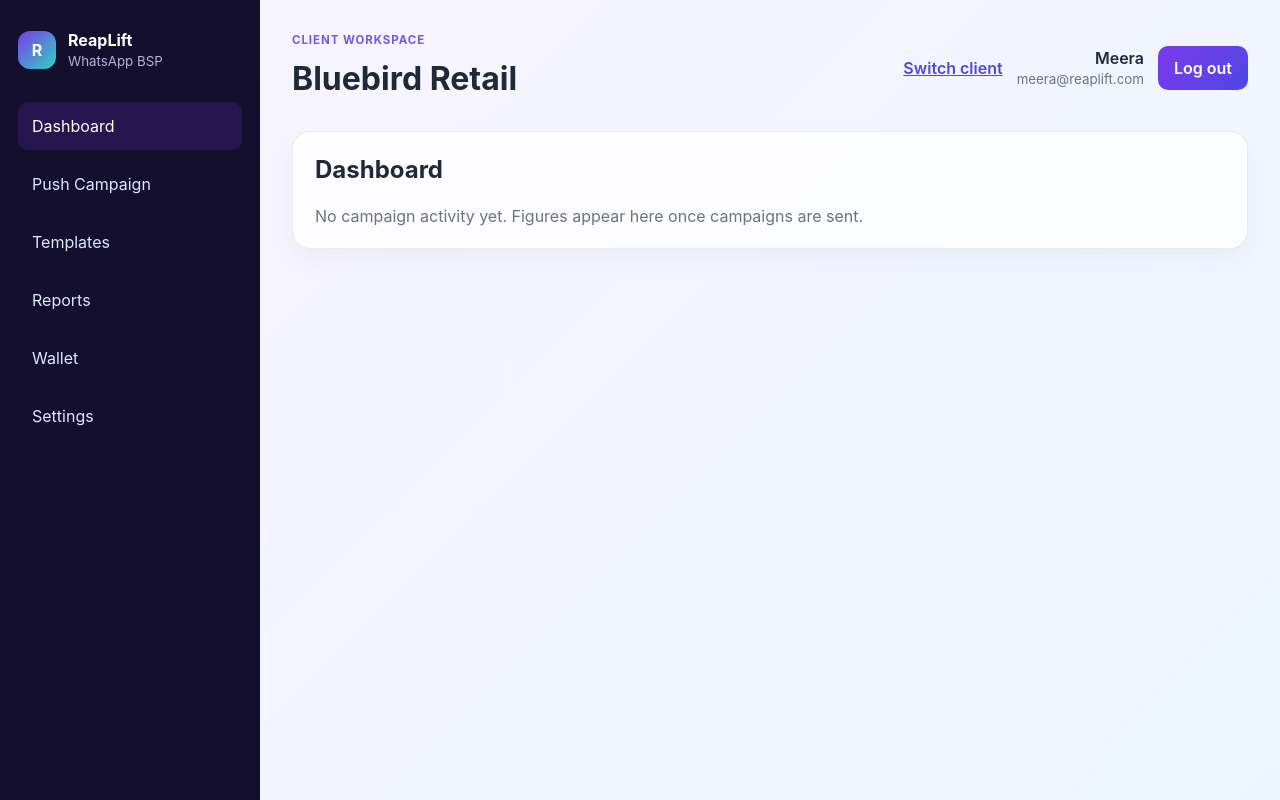
Test: logging in and out through the page › Log out ends the session on the server and returns to /login
Click the button "Log out" at (1203, 68), box [1158,46,1248,90]
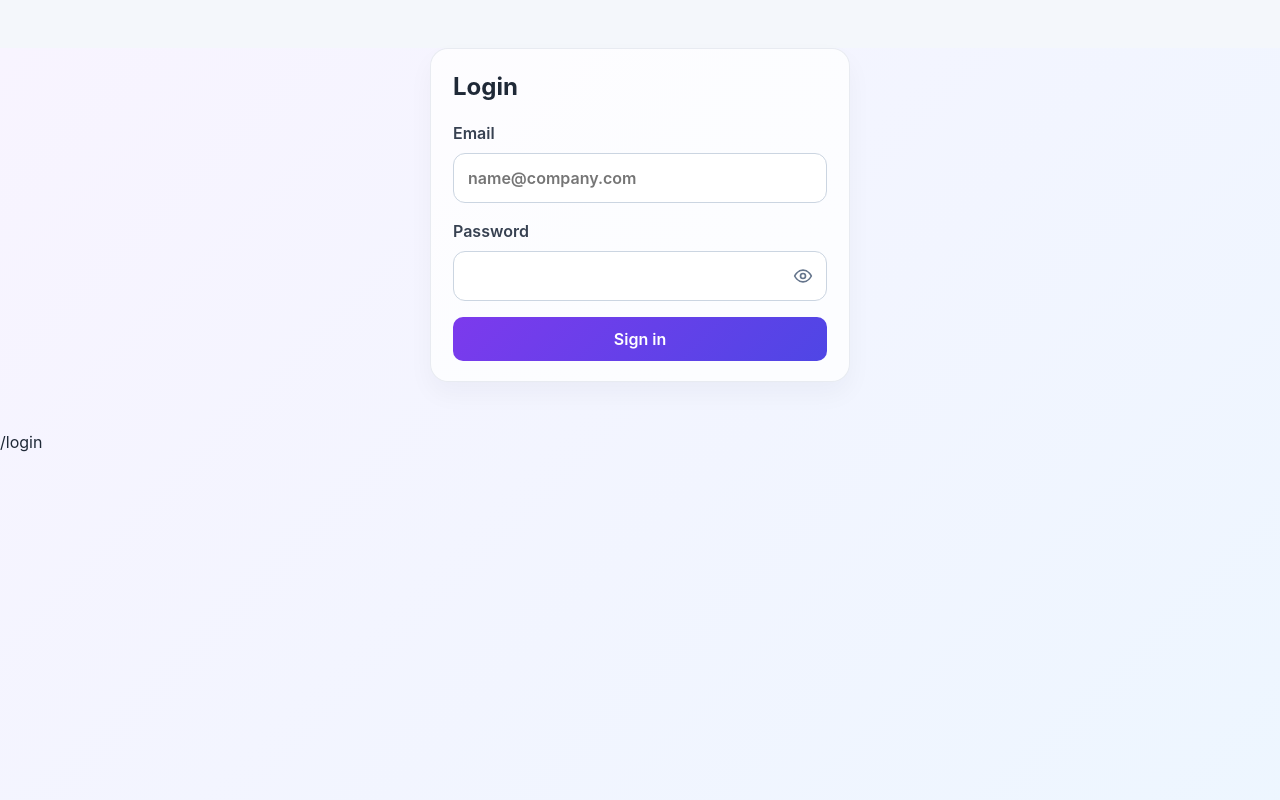
Now the text with test id "where" reads "/login", box [0,432,42,452]
Now the navigation bar is gone
